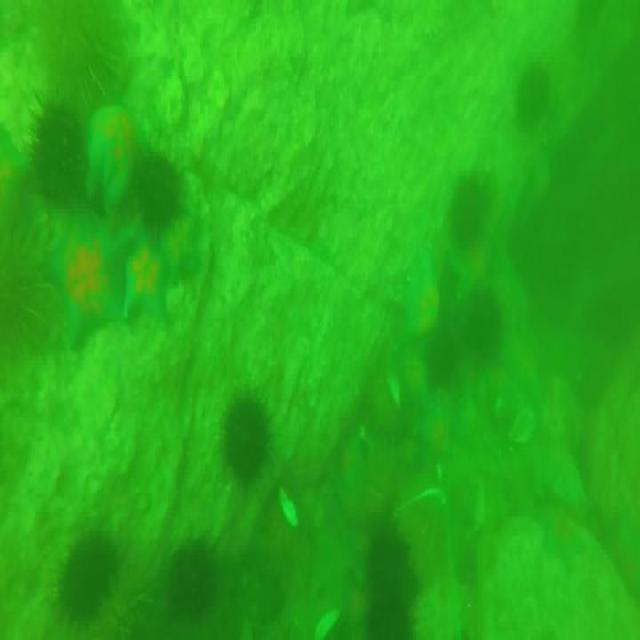echinus: (25, 96, 89, 214), (363, 528, 417, 640), (59, 536, 124, 624), (128, 155, 183, 237), (167, 542, 221, 624), (222, 402, 273, 486), (447, 169, 493, 250), (463, 286, 504, 356), (520, 63, 557, 136), (424, 324, 453, 384)
scallop: (507, 406, 538, 446)
starfish: (48, 215, 127, 346), (122, 238, 174, 339)
